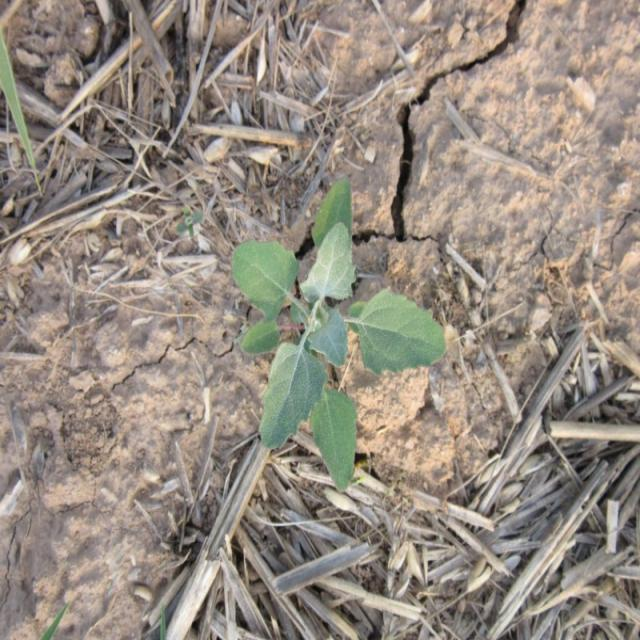ca: (236, 180, 448, 491)
